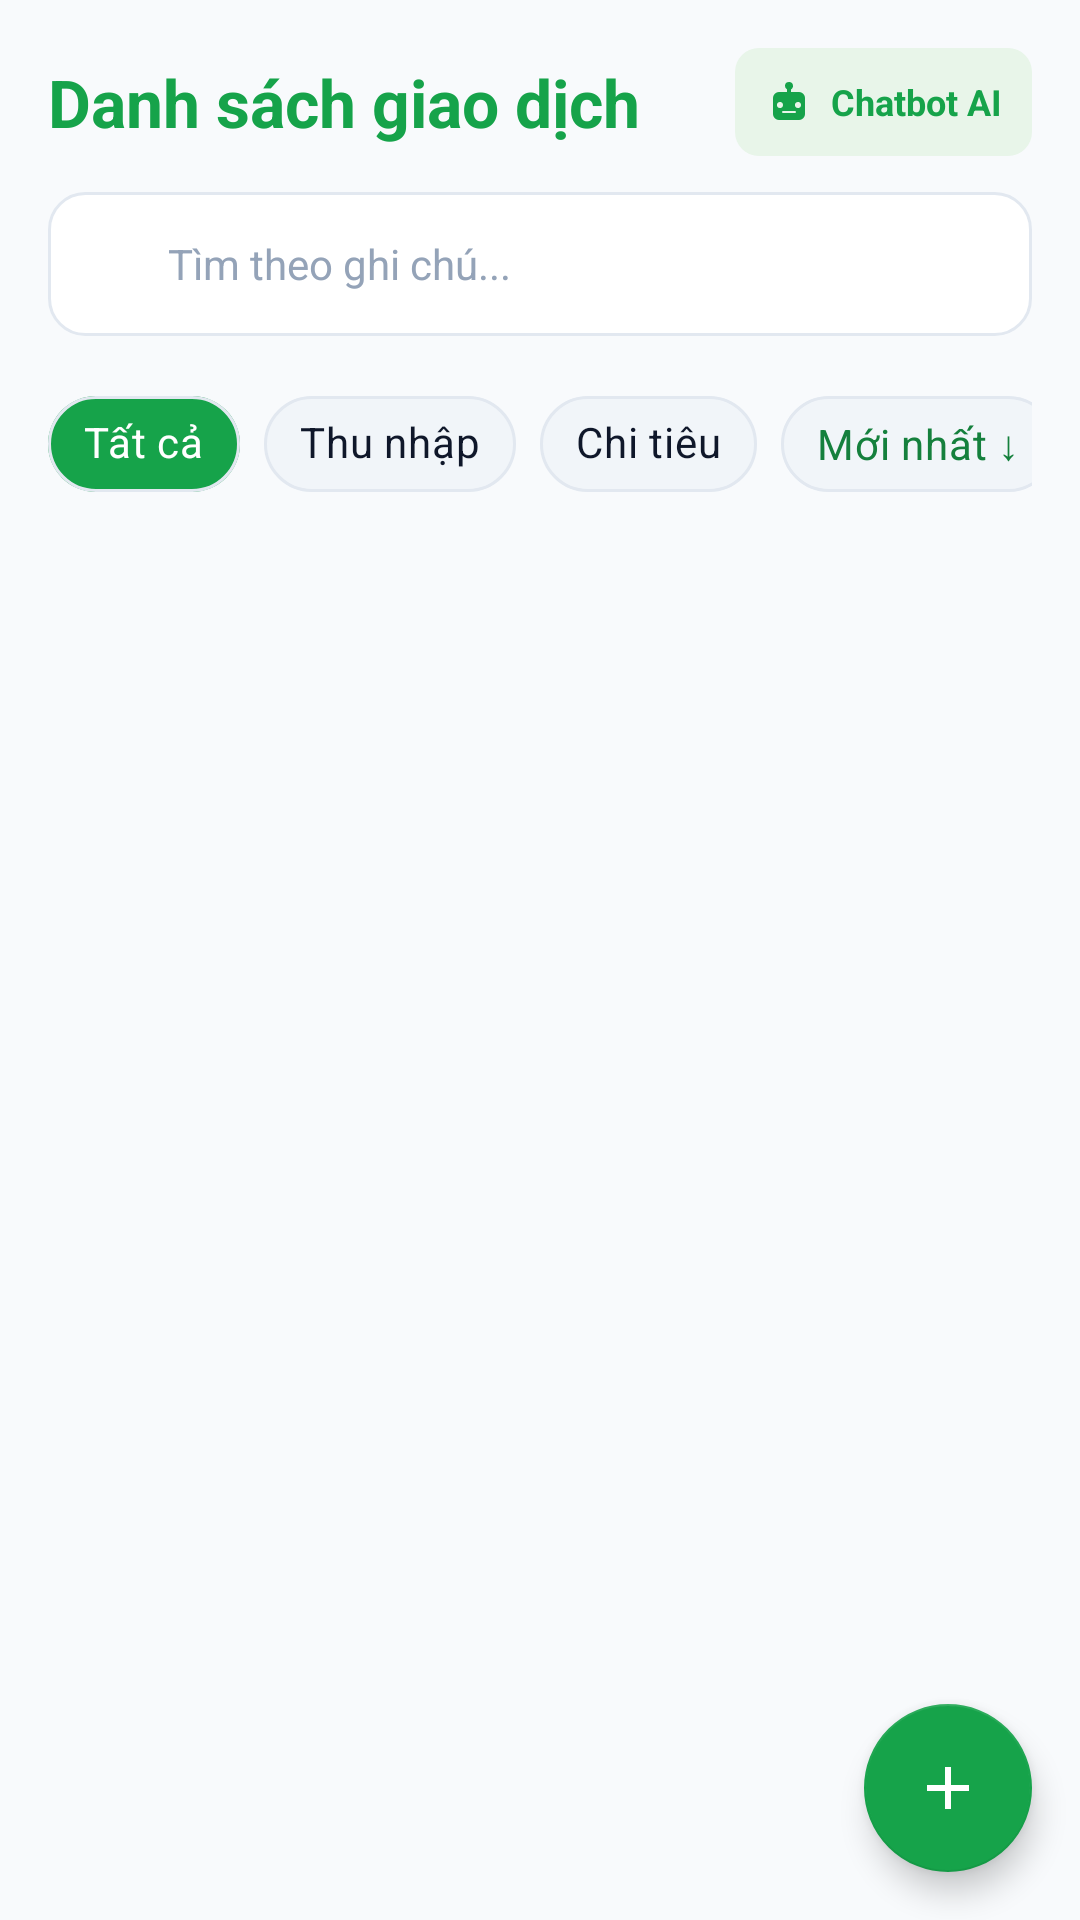

Point at icon controls on the screen. Image size 1080 × 1920, points as (x=x, y=y).
Thêm giao dịch: (x=948, y=1788)
